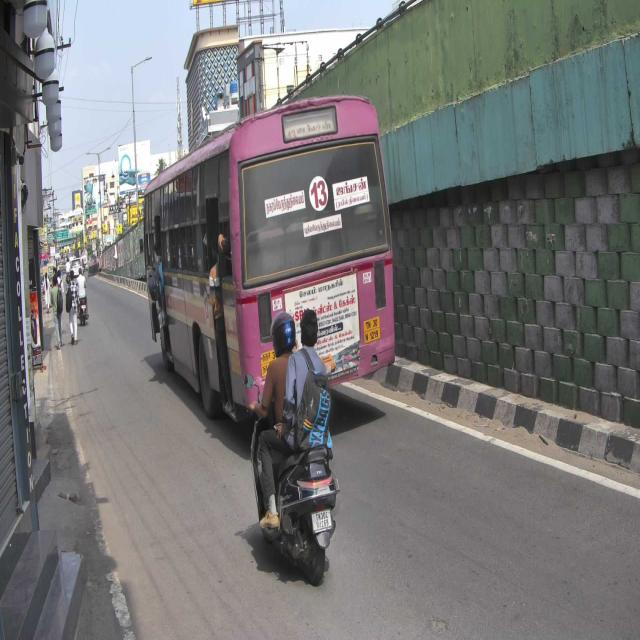double_rider: (248, 304, 338, 586)
